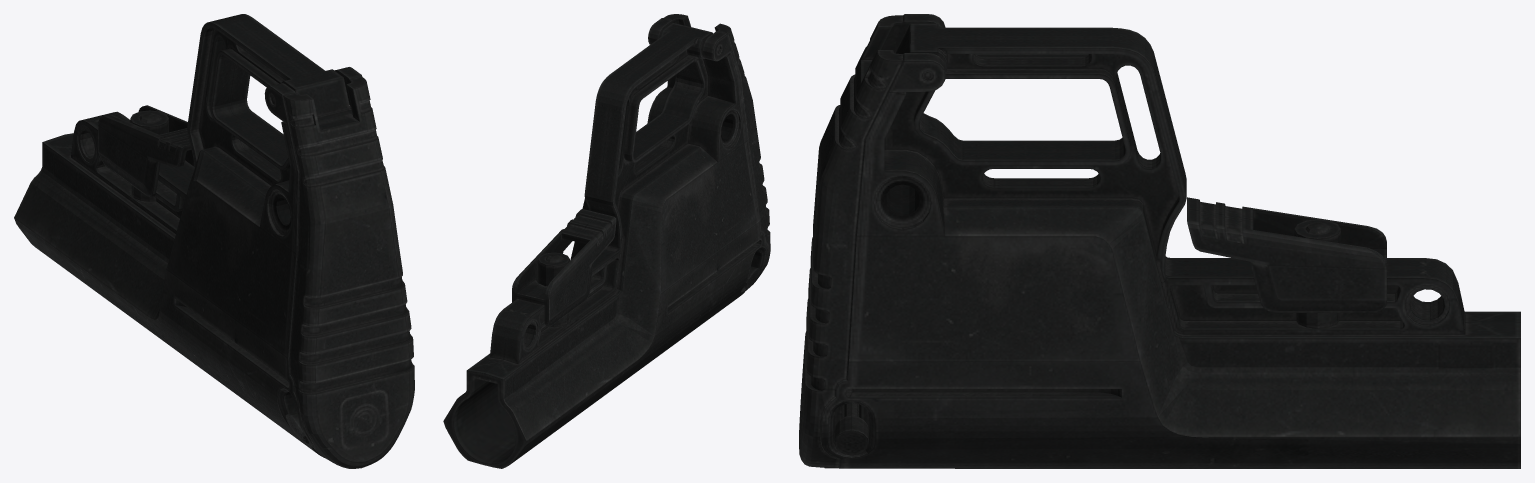
The picture shows the model from 3 angles, left to right: view 1: azimuth 30°, elevation 25°; view 2: azimuth 150°, elevation 25°; view 3: azimuth 270°, elevation 25°; orthographic projection. The views are drawn at different scales.
Parts seen in each view (by area): view 1: TW_5947c73886f7747701588af5_PZ_Import; view 2: TW_5947c73886f7747701588af5_PZ_Import; view 3: TW_5947c73886f7747701588af5_PZ_Import.
Boxes of the visible parts, box(x1,y1,x2,y2) form: TW_5947c73886f7747701588af5_PZ_Import: box(14, 14, 414, 468); TW_5947c73886f7747701588af5_PZ_Import: box(443, 14, 770, 468); TW_5947c73886f7747701588af5_PZ_Import: box(799, 14, 1520, 468).
Bounding box in the file's own units: 0.0258 × 0.1174 × 0.0765.
1 material, 1 textured.
